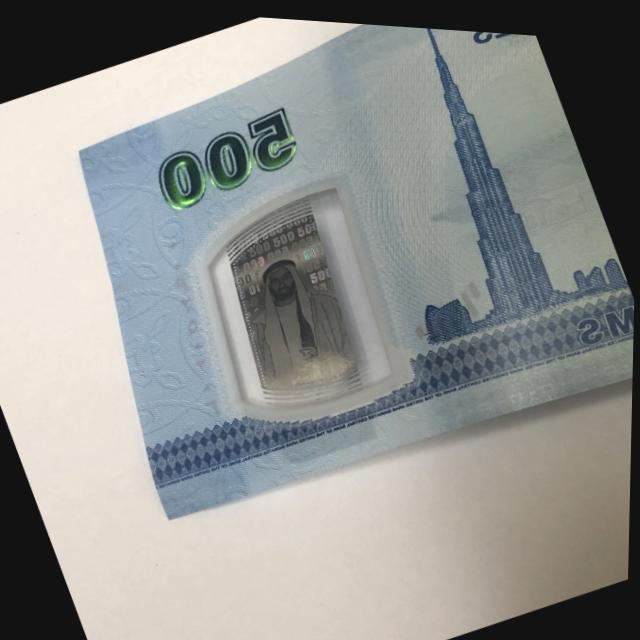500_AED: (66, 24, 634, 533)
